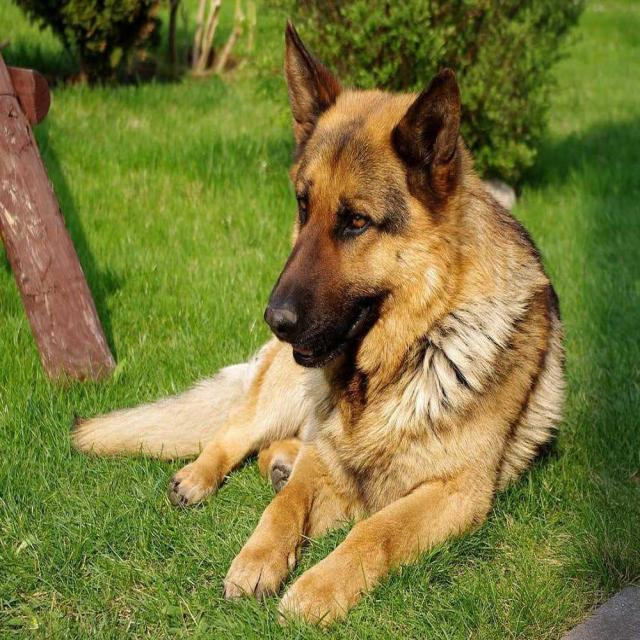Dog: (258, 9, 476, 397)
